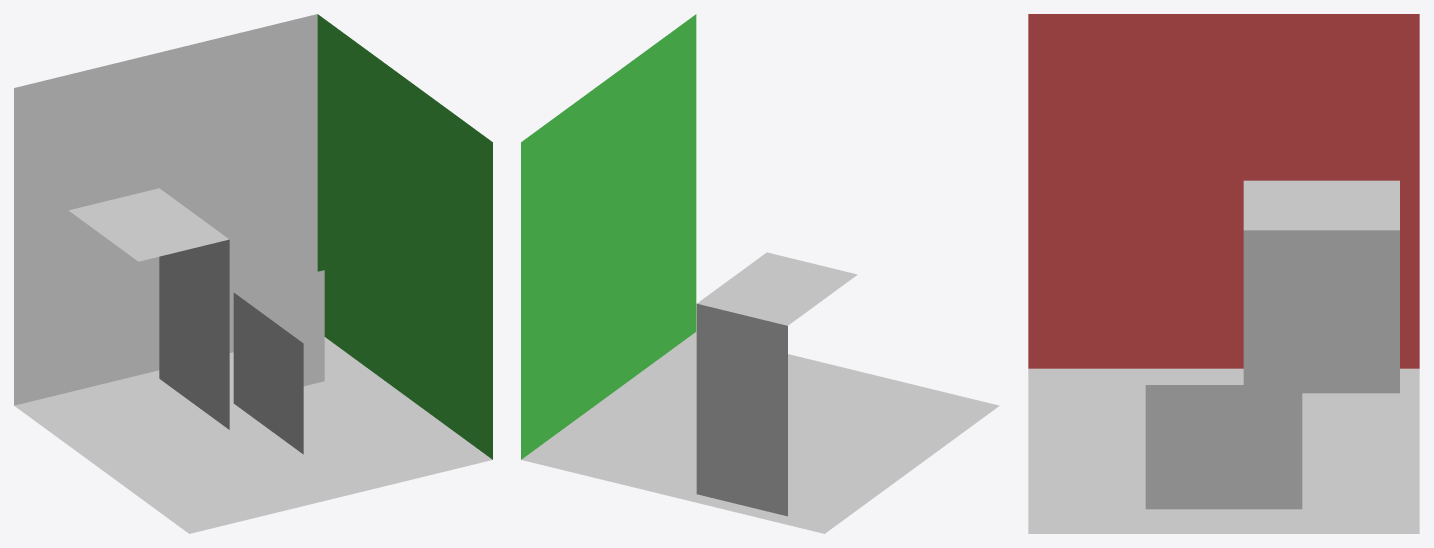
Rendered from cornell_box.gltf.
3 views of the same model, side by side, from view 1: azimuth 30°, elevation 25°; view 2: azimuth 150°, elevation 25°; view 3: azimuth 270°, elevation 25° (orthographic). The views are drawn at different scales.
Parts seen in each view (by area): view 1: back_wall, right_wall, floor, tall_box, short_box; view 2: right_wall, floor, tall_box, short_box; view 3: left_wall, floor, tall_box, short_box.
Boxes of the visible parts, box(x1,y1,x2,y2) form: back_wall: box(14, 14, 317, 405); right_wall: box(317, 14, 492, 459); floor: box(14, 337, 492, 533); tall_box: box(68, 188, 229, 429); short_box: box(233, 270, 378, 454); right_wall: box(521, 14, 696, 459); floor: box(521, 331, 999, 533); tall_box: box(696, 252, 857, 516); short_box: box(637, 381, 696, 451); left_wall: box(1028, 14, 1419, 368); floor: box(1028, 368, 1419, 533); tall_box: box(1243, 180, 1399, 393); short_box: box(1145, 385, 1302, 509).
Bounding box in the file's own units: 1 × 1 × 1.
